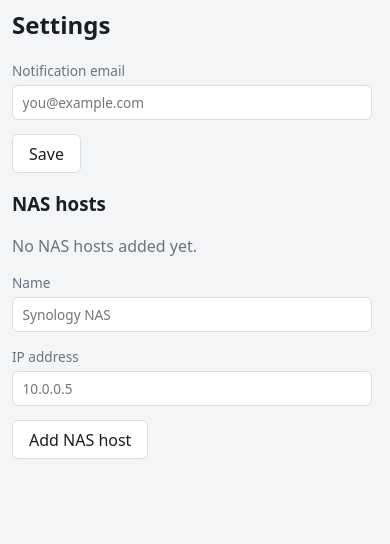
Test: Settings › shows a visible save error when updateConfig rejects
In the field labelled "Notification email": coordinates (192, 102) [12, 85, 372, 120], type "new@example.com"
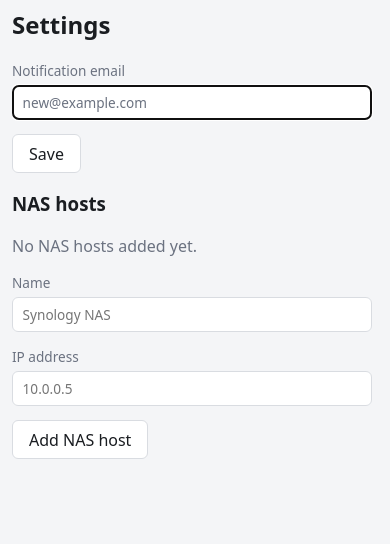
Click the button "Save": coordinates (46, 154) [12, 134, 81, 173]
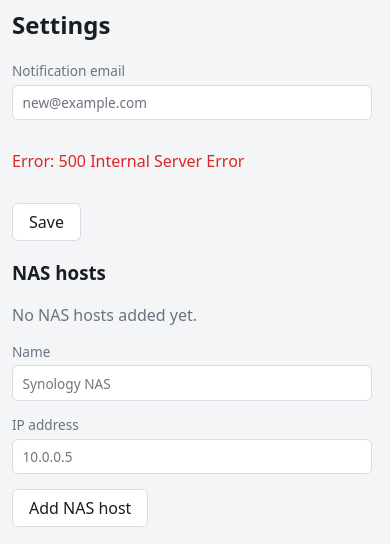
Expected: the text "Error: 500 Internal Server Error" is shown, [12, 150, 244, 172]
